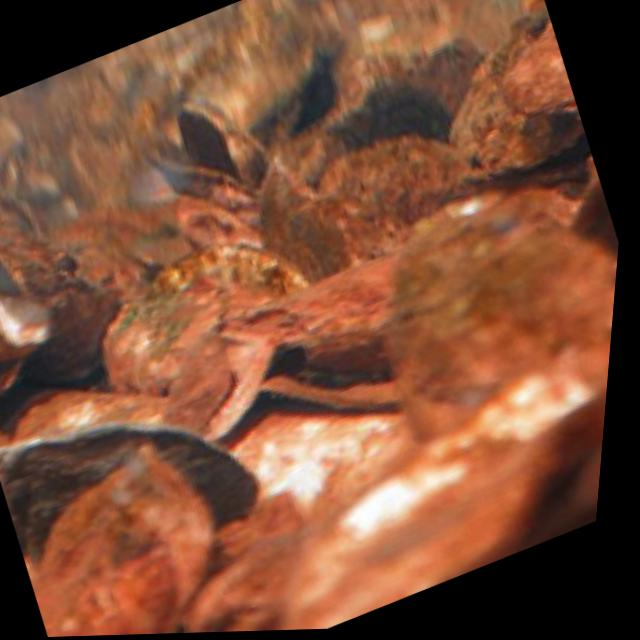Oyster-Indeterminate: (282, 372, 603, 630), (385, 195, 618, 503), (0, 426, 268, 558), (29, 458, 217, 637), (102, 252, 300, 393), (236, 237, 402, 371), (454, 0, 583, 172), (319, 134, 471, 252), (504, 27, 574, 109)
Oyster-Open: (145, 99, 260, 204), (0, 240, 51, 348)
